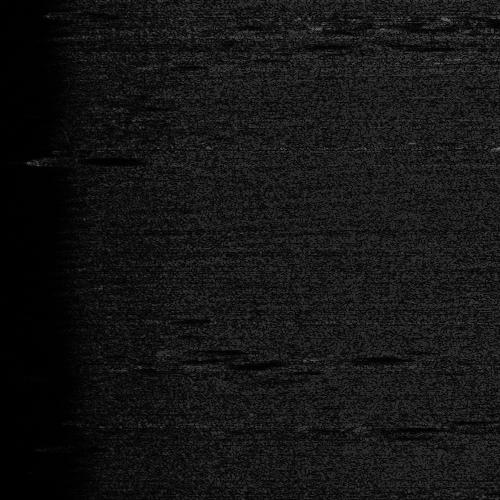rock: (134, 348, 187, 353)
shadow: (161, 348, 233, 353)
